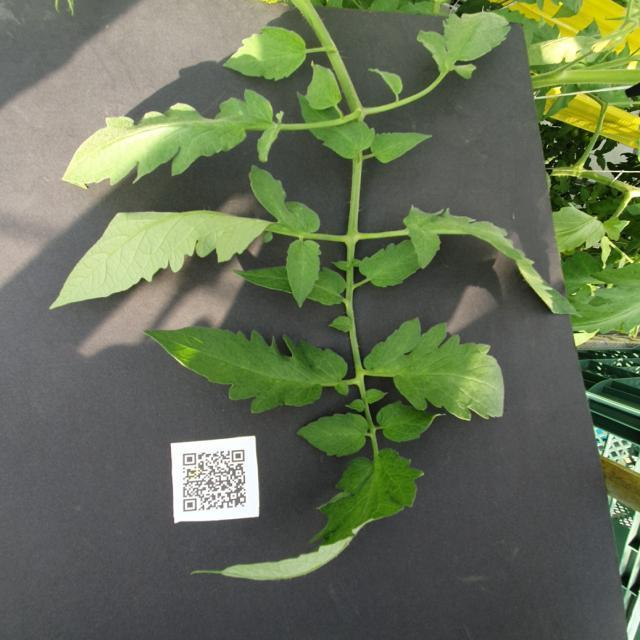Healthy: (186, 446, 426, 583), (59, 88, 286, 191), (400, 203, 580, 319), (139, 326, 349, 414), (364, 317, 508, 422), (414, 9, 510, 82), (295, 89, 375, 162), (220, 26, 308, 82), (295, 411, 370, 458), (357, 237, 422, 291), (377, 398, 447, 444), (305, 59, 342, 112)
